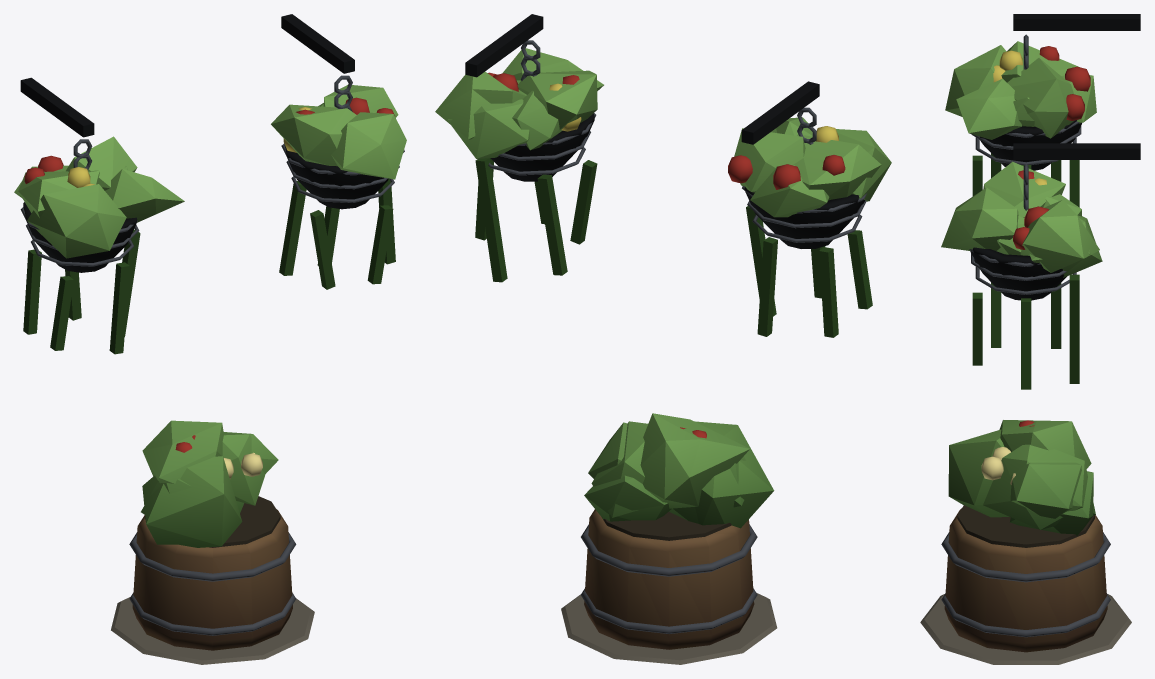
File: platform-planters.glb
The picture shows the model from 3 angles, left to right: view 1: azimuth 30°, elevation 25°; view 2: azimuth 150°, elevation 25°; view 3: azimuth 270°, elevation 25°; orthographic projection. The views are drawn at different scales.
Visible parts, largest first — view 1: platform_planters; view 2: platform_planters; view 3: platform_planters.
Boxes of the visible parts, box(x1,y1,x2,y2) form: platform_planters: box(14, 14, 406, 664); platform_planters: box(435, 14, 891, 664); platform_planters: box(920, 14, 1140, 664).
Bounding box in the file's own units: 1.75 × 2.35 × 0.866.
